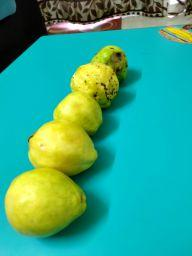guava: (5, 166, 90, 240), (26, 120, 97, 174), (70, 62, 122, 106), (54, 93, 106, 134), (90, 42, 132, 83)
